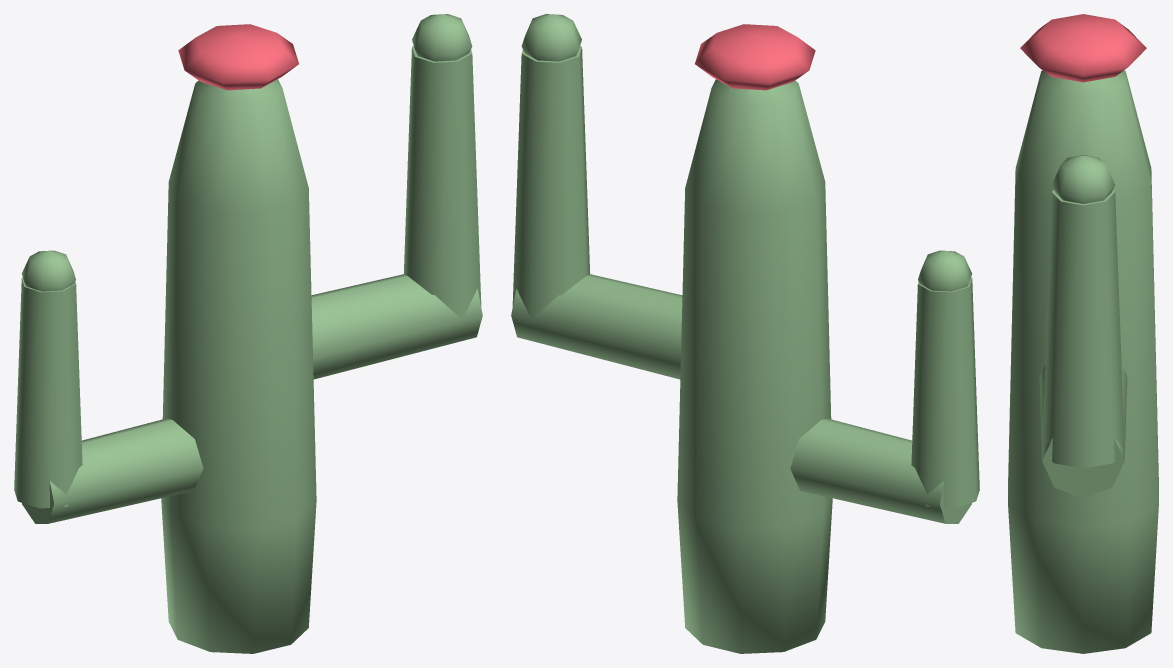
The model's file is cactus.glb.
3 views of the same model, side by side, from view 1: azimuth 30°, elevation 25°; view 2: azimuth 150°, elevation 25°; view 3: azimuth 270°, elevation 25° (orthographic).
Visible parts, largest first — view 1: cactus_m; view 2: cactus_m; view 3: cactus_m.
Boxes of the visible parts, x1=… form: cactus_m: x1=14, y1=14, x2=482, y2=653; cactus_m: x1=511, y1=14, x2=979, y2=653; cactus_m: x1=1008, y1=14, x2=1158, y2=653.
Size of the model in its own units: 3.39 by 4.25 by 0.9511.
